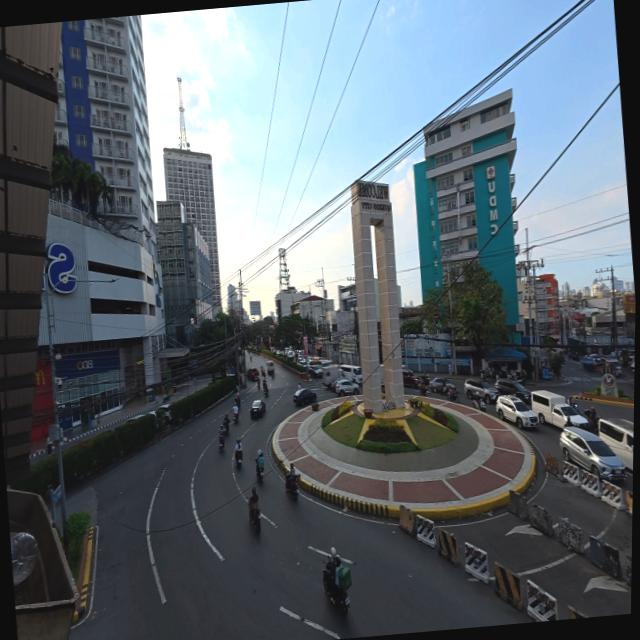car: (559, 427, 625, 481), (496, 396, 537, 429), (463, 379, 498, 404), (495, 379, 530, 403), (428, 377, 455, 392), (335, 379, 358, 396), (248, 399, 267, 418), (293, 389, 315, 405), (149, 405, 171, 421), (401, 369, 416, 388), (329, 377, 345, 392), (125, 414, 145, 424), (309, 365, 321, 378), (246, 368, 258, 380)
motorcycle: (322, 560, 348, 615), (285, 474, 299, 500), (249, 503, 259, 533), (472, 397, 485, 412), (217, 427, 225, 451), (446, 388, 458, 402), (255, 465, 263, 482), (222, 418, 229, 436), (234, 451, 241, 468), (418, 383, 426, 396), (234, 396, 240, 409), (162, 392, 169, 402), (256, 378, 261, 390), (263, 387, 269, 397), (233, 413, 238, 424), (268, 369, 274, 378)
trucks: (321, 364, 339, 387)
vans: (531, 391, 588, 429), (598, 419, 633, 471), (338, 365, 361, 385), (603, 358, 621, 376), (317, 358, 332, 368)
